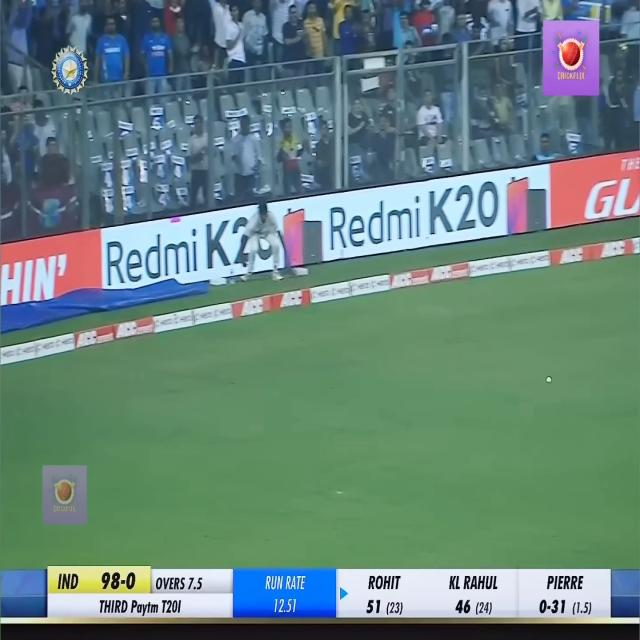fully_visible: (129, 593, 162, 615)
